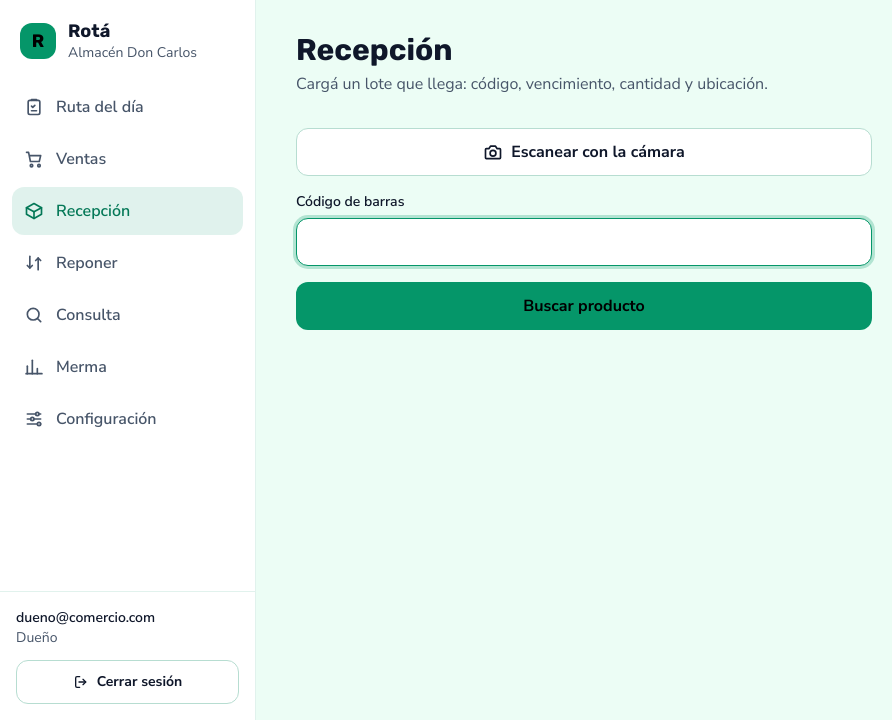
it: Recepción de lote › si el código no existe, el dueño lo crea y sigue con el lote
The width and height of the screenshot is (892, 720).
Type "123" into the field labelled "Código de barras" at (584, 242), box [296, 218, 872, 266]
Then press Enter
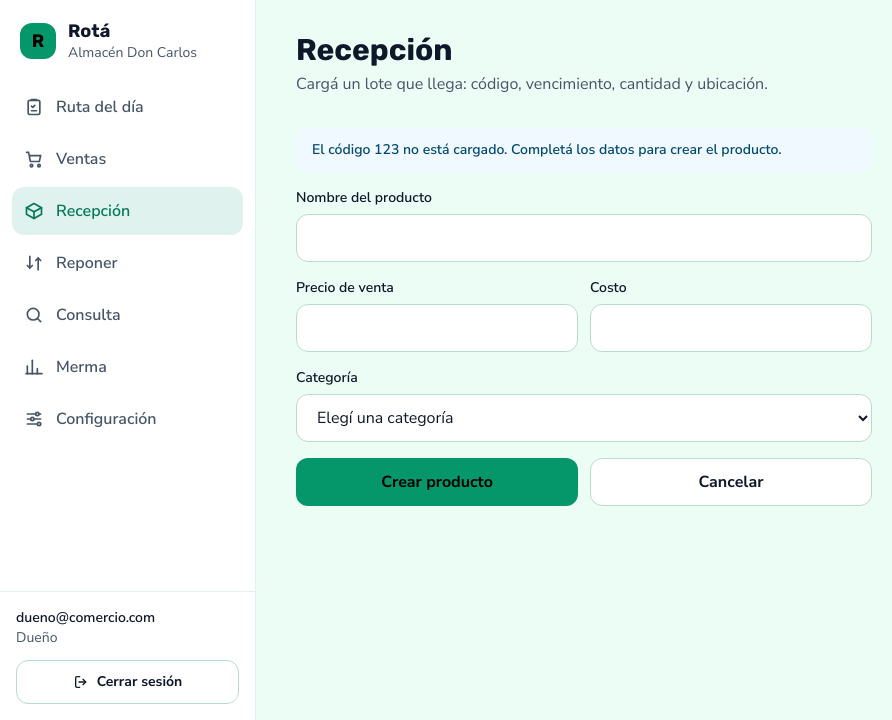
Type "Manteca 200g" into the field labelled "Nombre del producto" at (584, 238), box [296, 214, 872, 262]
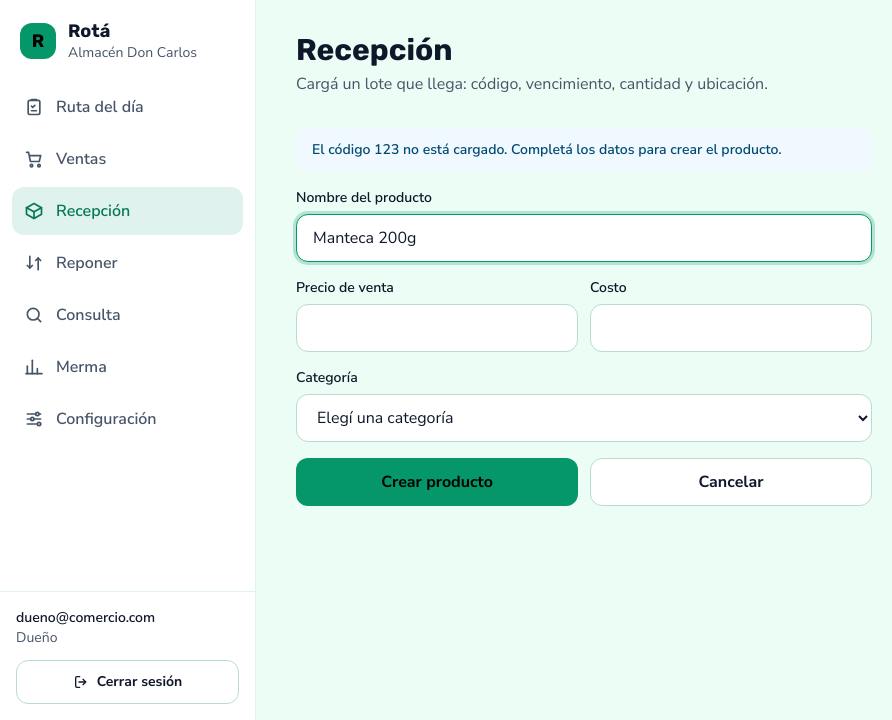
Type "1500" into the field labelled "Precio de venta" at (437, 328), box [296, 304, 578, 352]
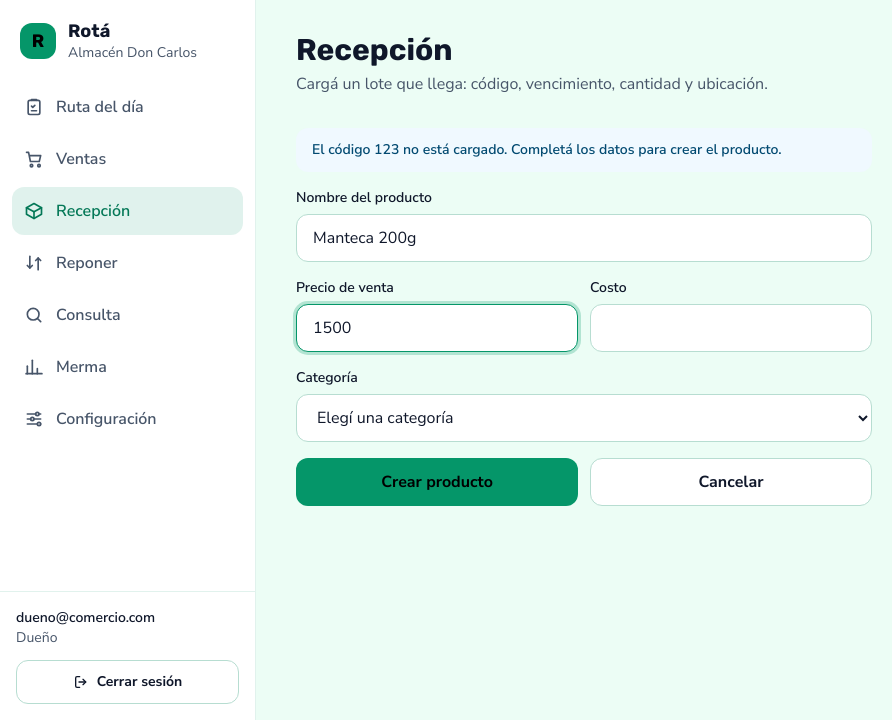
Type "900" into the field labelled "Costo" at (731, 328), box [590, 304, 872, 352]
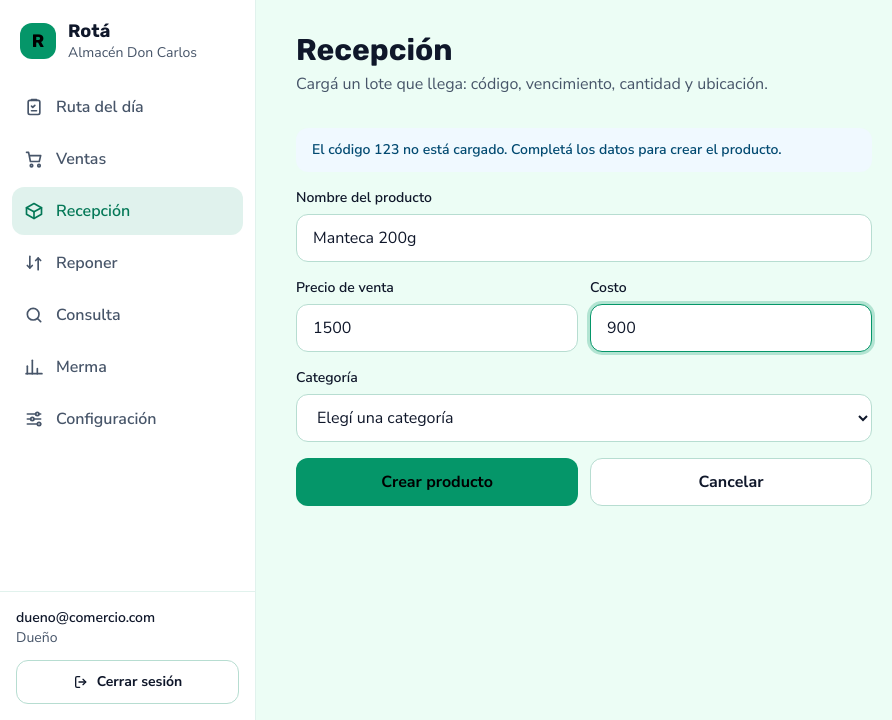
Select "Lácteos" in the dropdown labelled "Categoría" at (584, 418), box [296, 394, 872, 442]
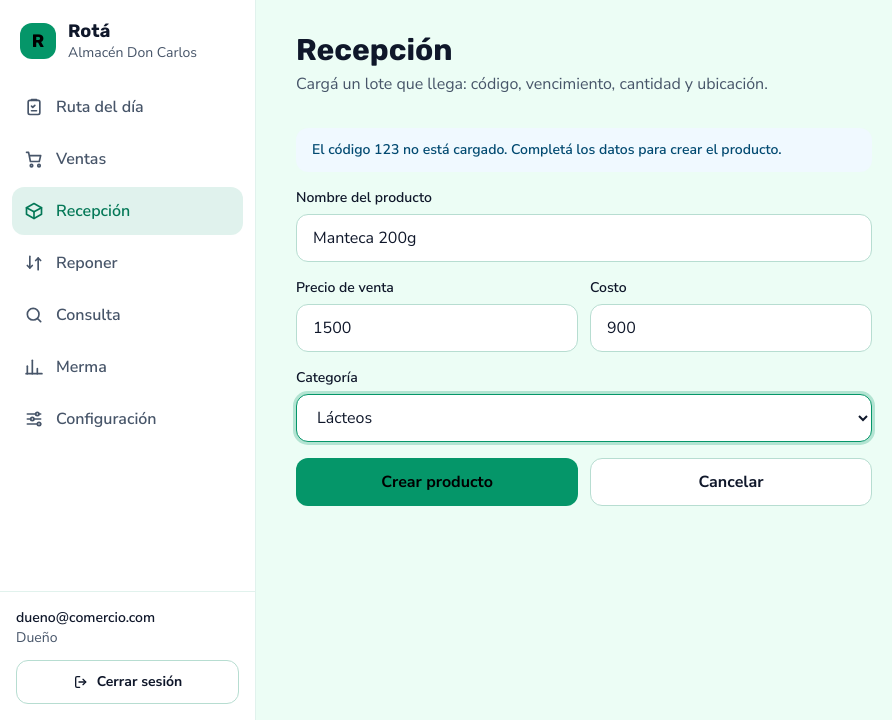
Click the button "Crear producto" at (437, 482), box [296, 458, 578, 506]
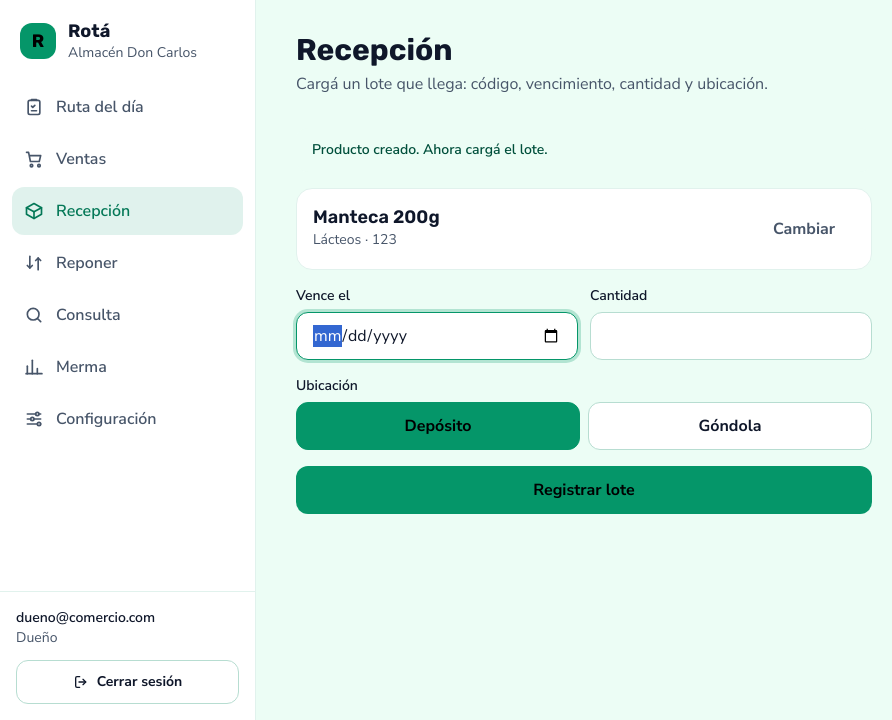
Expected: the text "Producto creado. Ahora cargá el lote." is shown, [296, 128, 872, 172]
Expected: the text "Manteca 200g" is shown, [313, 205, 440, 230]
